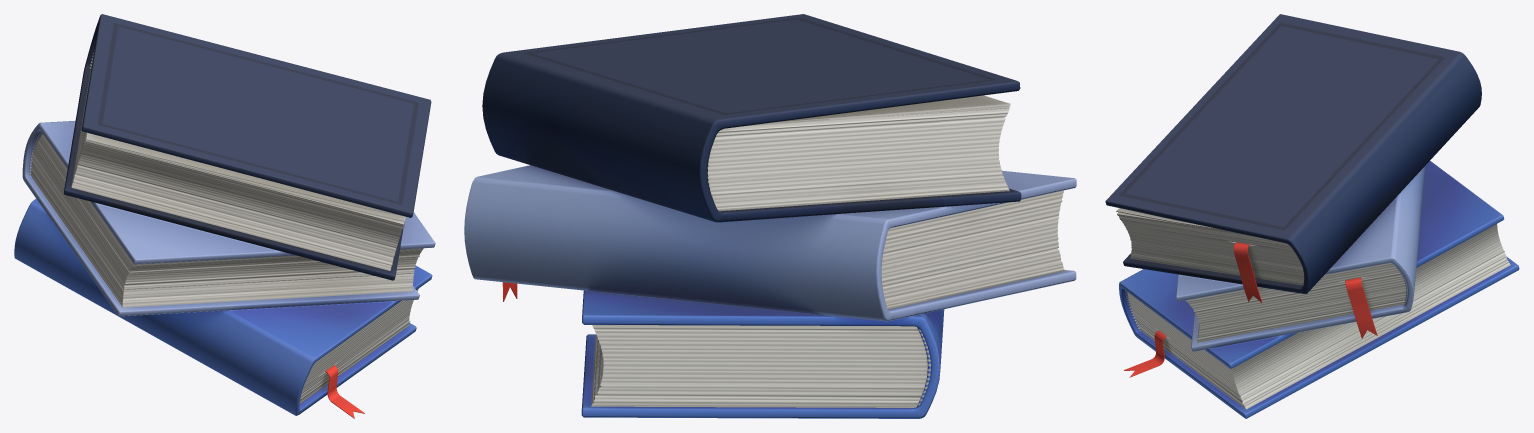
The model's file is book.glb.
3 views of the same model, side by side, from view 1: azimuth 30°, elevation 25°; view 2: azimuth 150°, elevation 25°; view 3: azimuth 270°, elevation 25° (orthographic). The views are drawn at different scales.
Parts seen in each view (by area): view 1: node_id36_1; view 2: node_id36_1; view 3: node_id36_1.
Boxes of the visible parts, x1,y1,x2,y2 form: node_id36_1: (14,14,435,418); node_id36_1: (464,14,1076,418); node_id36_1: (1105,14,1519,418).
Bounding box in the file's own units: 0.3542 × 0.2737 × 0.3624.
Materials: 1 (1 with a texture image).
